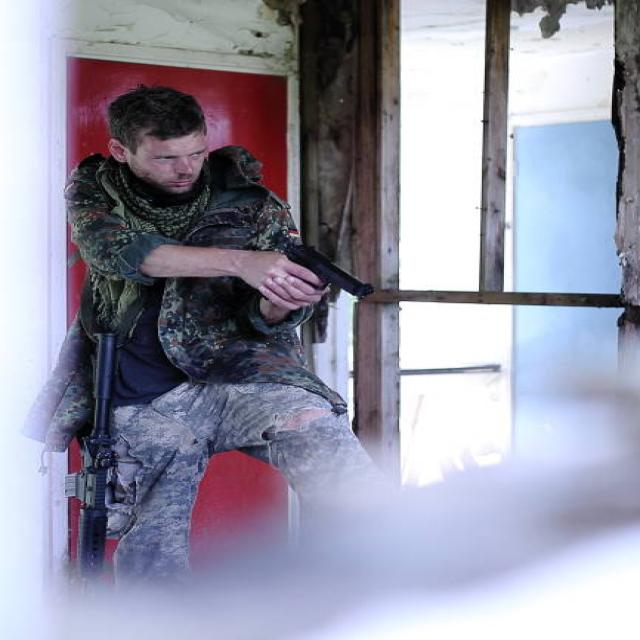soldier: (69, 81, 377, 618)
